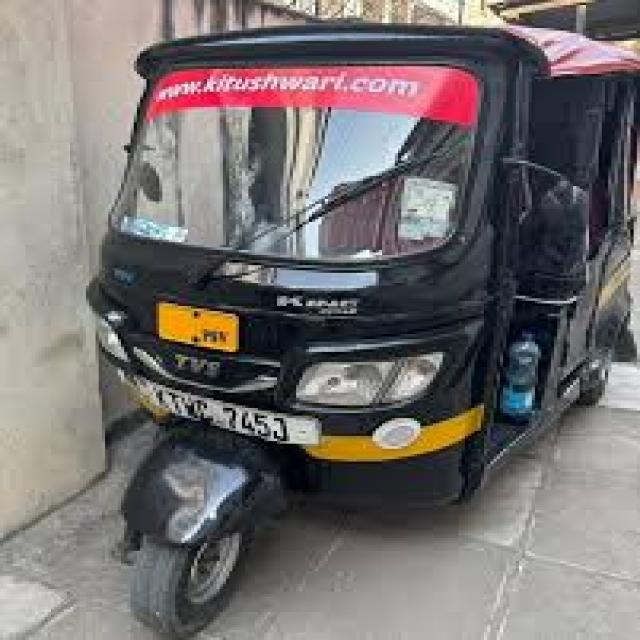tuktuk: (25, 7, 640, 636)
